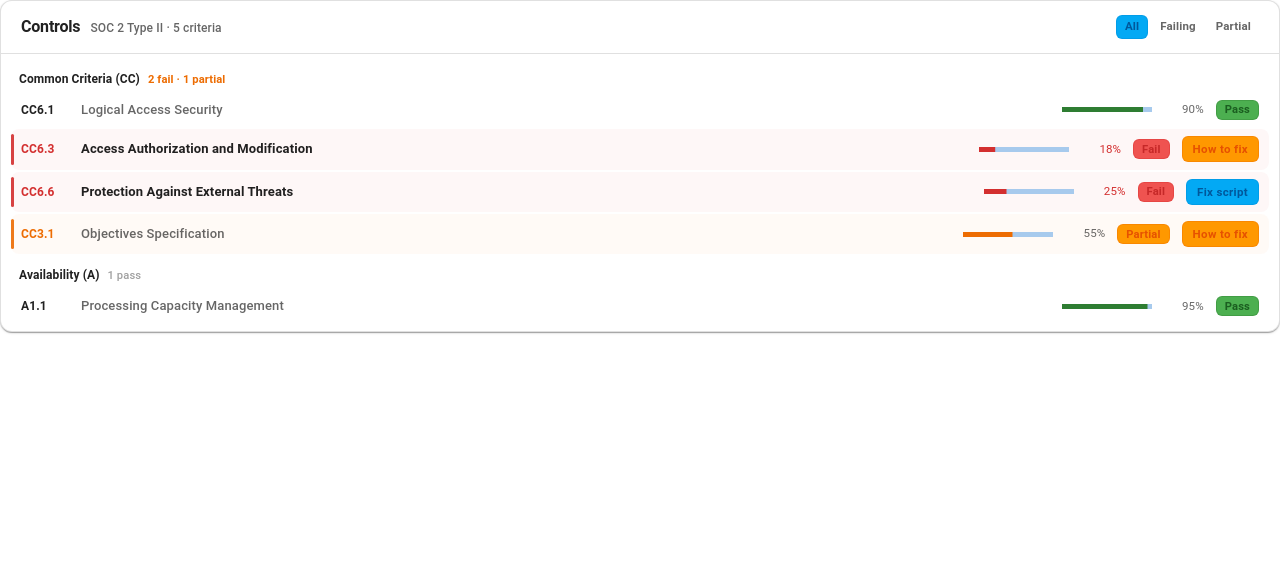
Test: ControlHeatmap › clicking Fix script expands the accordion and shows evidence gaps
Click the button "Fix script".
click(1222, 192)  # box [1186,179,1259,205]
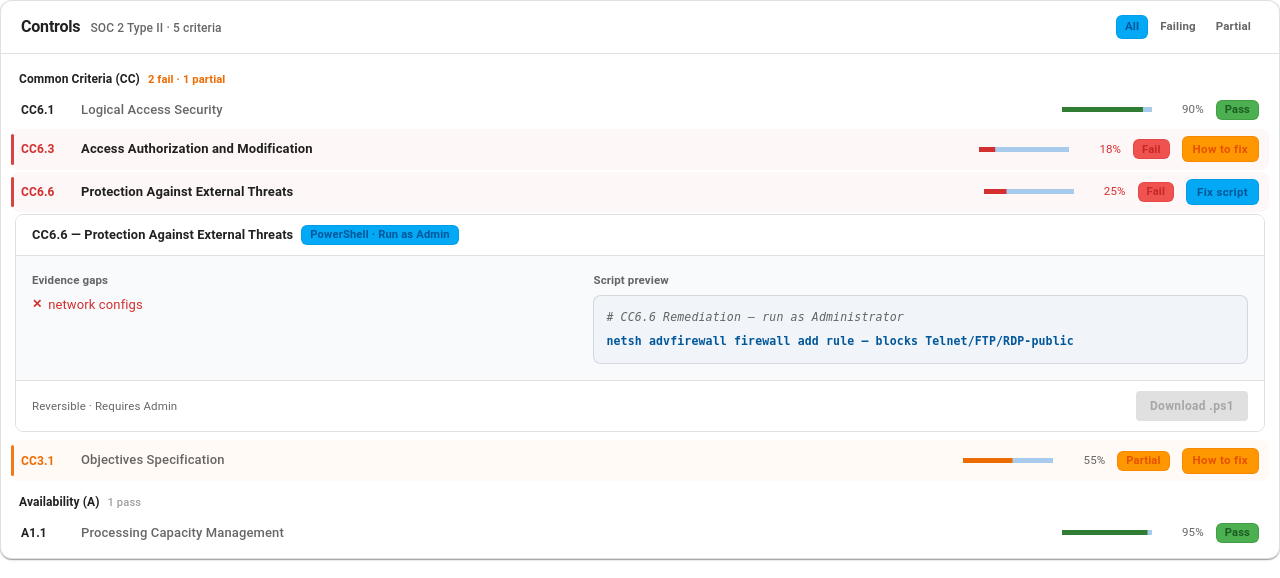
Expected: the text "Evidence gaps" is shown, [32,273,108,287]
